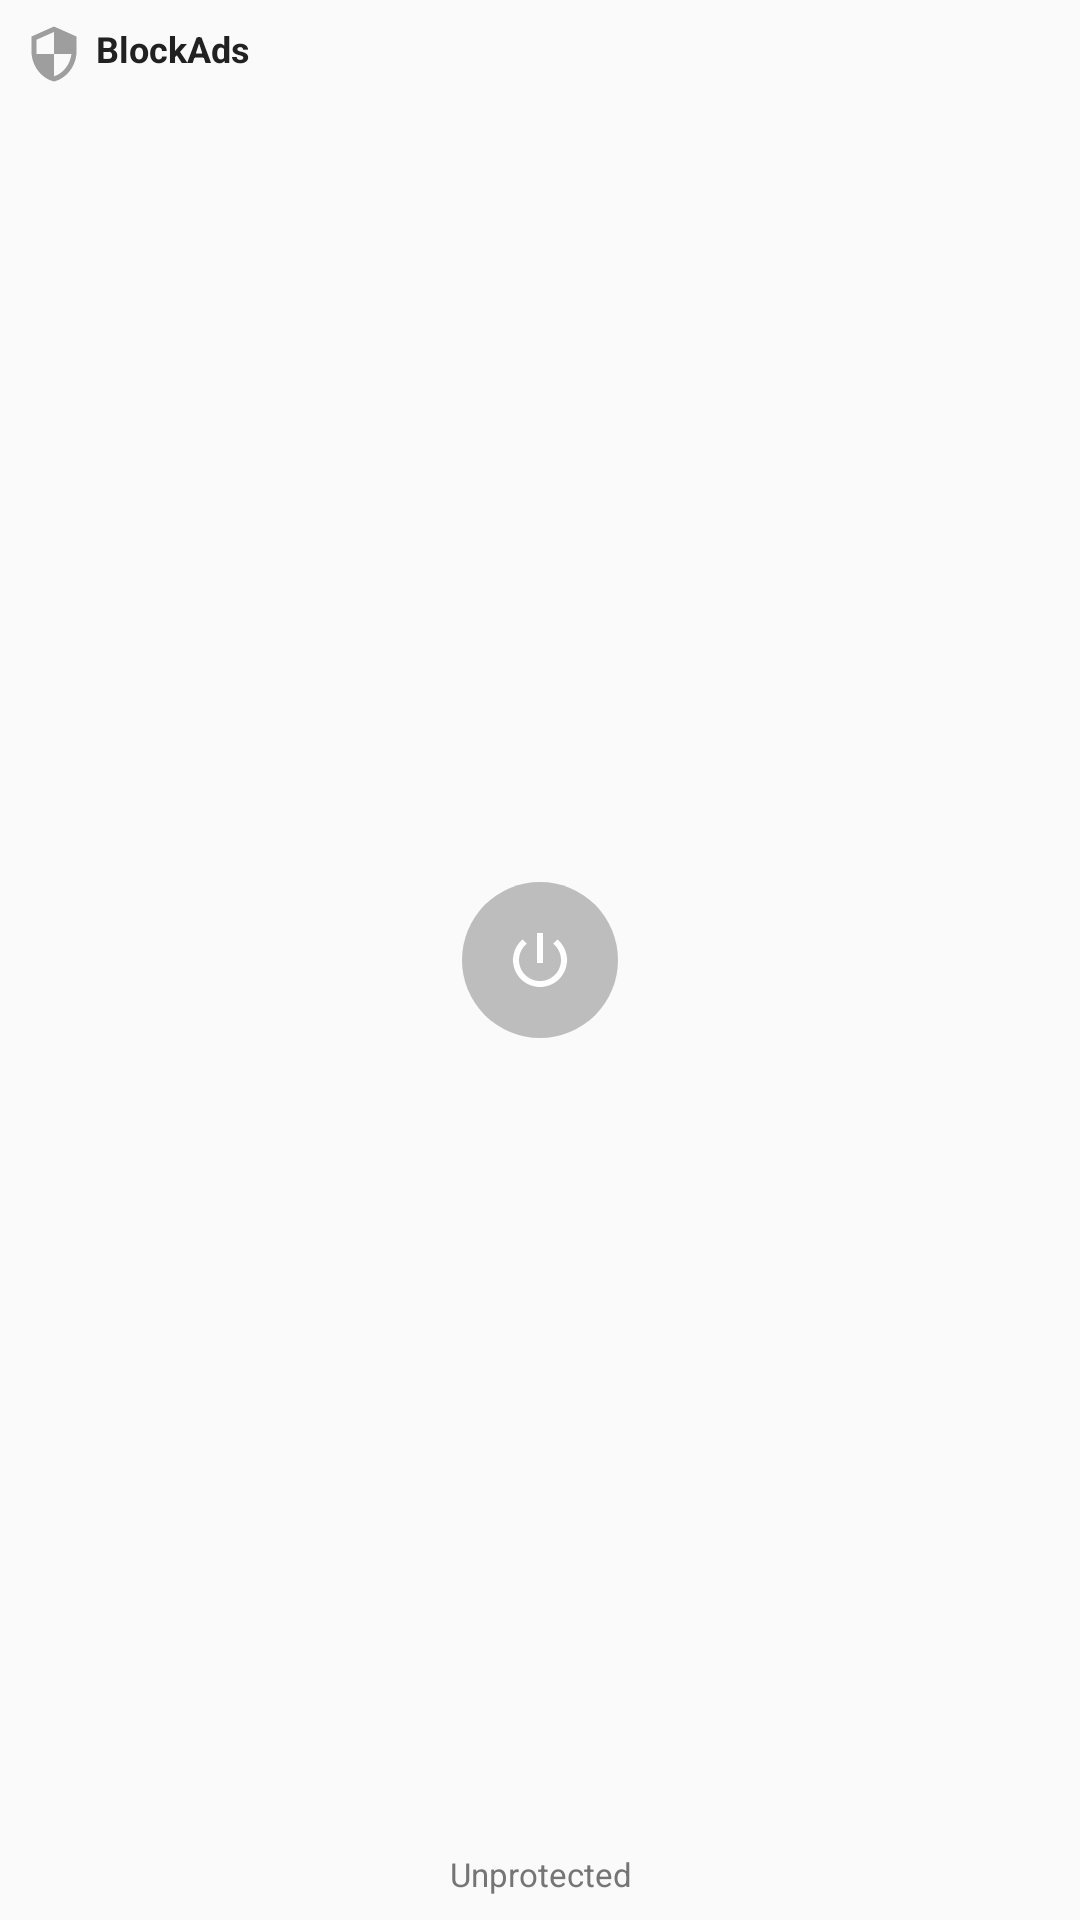

Named icons in this screenshot (1080px×1920px) and their bounding boxes, (left=x1, top=y1, right=x2, bottom=y2):
shield off: (left=31, top=27, right=77, bottom=82)
Toggle ad blocking: (left=462, top=882, right=618, bottom=1038)
